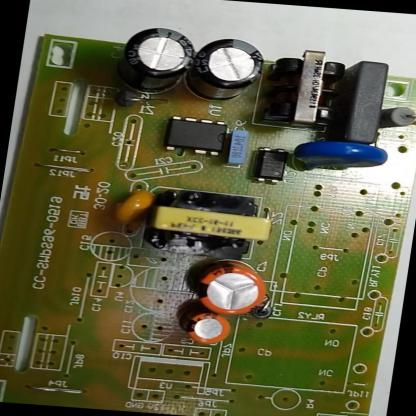Cap1: (188, 258, 274, 318)
Cap2: (172, 305, 236, 349)
Cap3: (182, 35, 272, 107)
Cap4: (108, 24, 199, 98)
MOSFET: (160, 113, 231, 158)
Mov: (286, 136, 393, 180)
Resistor: (378, 104, 416, 132)
Transformer: (139, 187, 278, 264), (255, 44, 354, 132)
